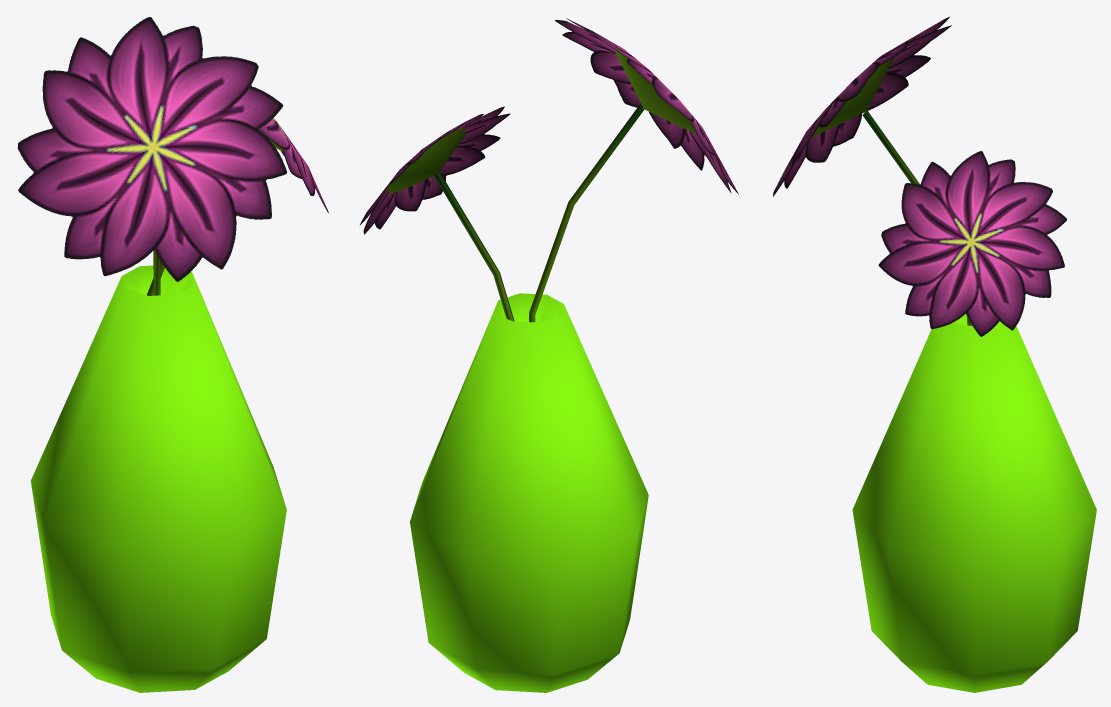
File: Flowers_C_4.FBX
The picture shows the model from 3 angles, left to right: view 1: azimuth 30°, elevation 25°; view 2: azimuth 150°, elevation 25°; view 3: azimuth 270°, elevation 25°; orthographic projection. The views are drawn at different scales.
Parts seen in each view (by area): view 1: Vase_And_Flowers; view 2: Vase_And_Flowers; view 3: Vase_And_Flowers.
Boxes of the visible parts, x1,y1,x2,y2 form: Vase_And_Flowers: (17,17,328,692); Vase_And_Flowers: (359,18,738,692); Vase_And_Flowers: (773,17,1096,692).
Size of the model in its own units: 80.48 by 155 by 73.7.
